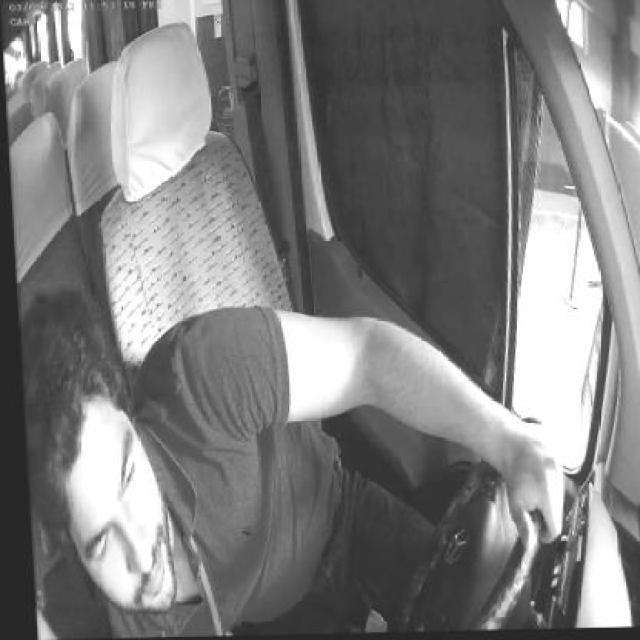Inattentive: (26, 318, 178, 627)
